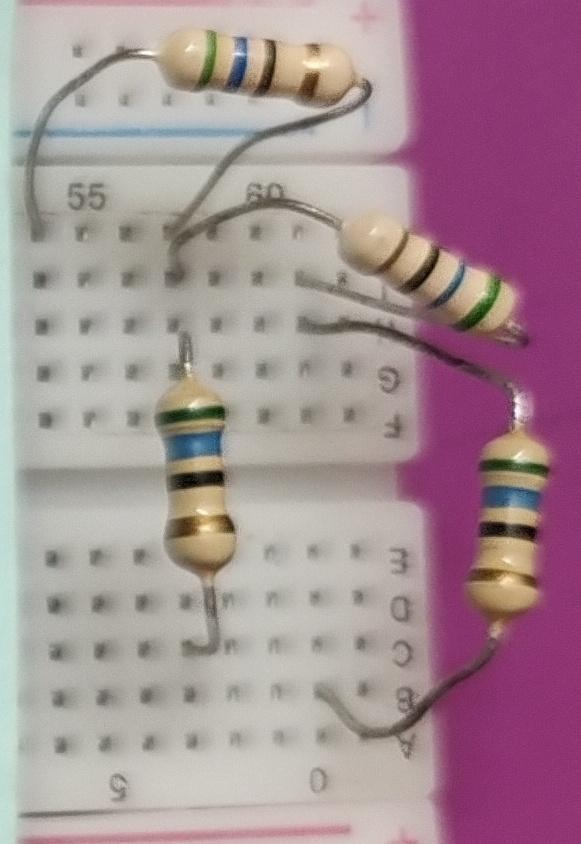resistor: (334, 190, 528, 340), (146, 372, 264, 584), (144, 16, 364, 124), (470, 422, 554, 632)
